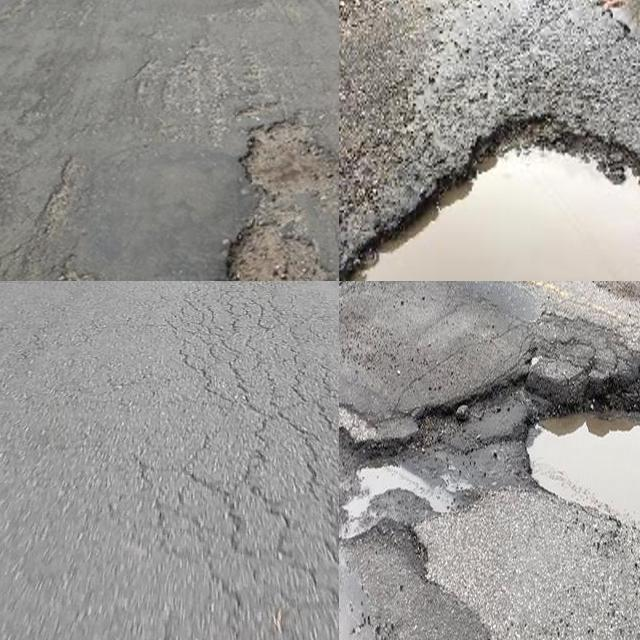Lubang: (339, 117, 640, 281), (222, 122, 339, 281), (525, 373, 640, 532)
Retak Buaya: (189, 290, 339, 640)
